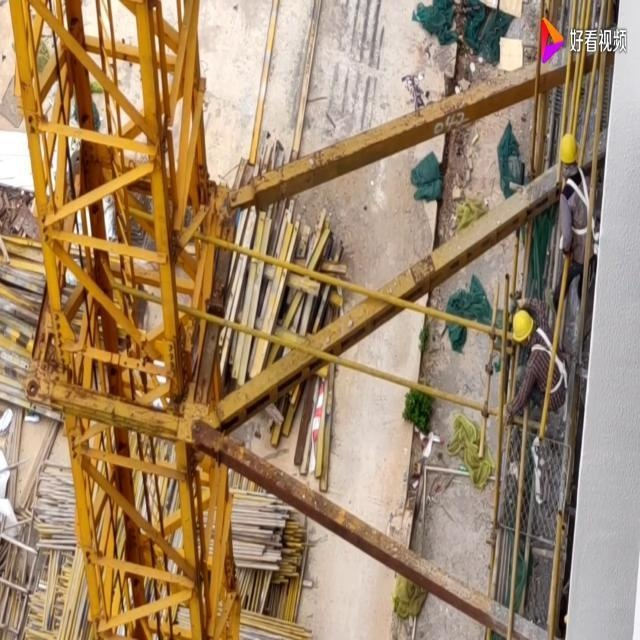Arnes_seguridad: (527, 324, 569, 397), (561, 162, 599, 240)
